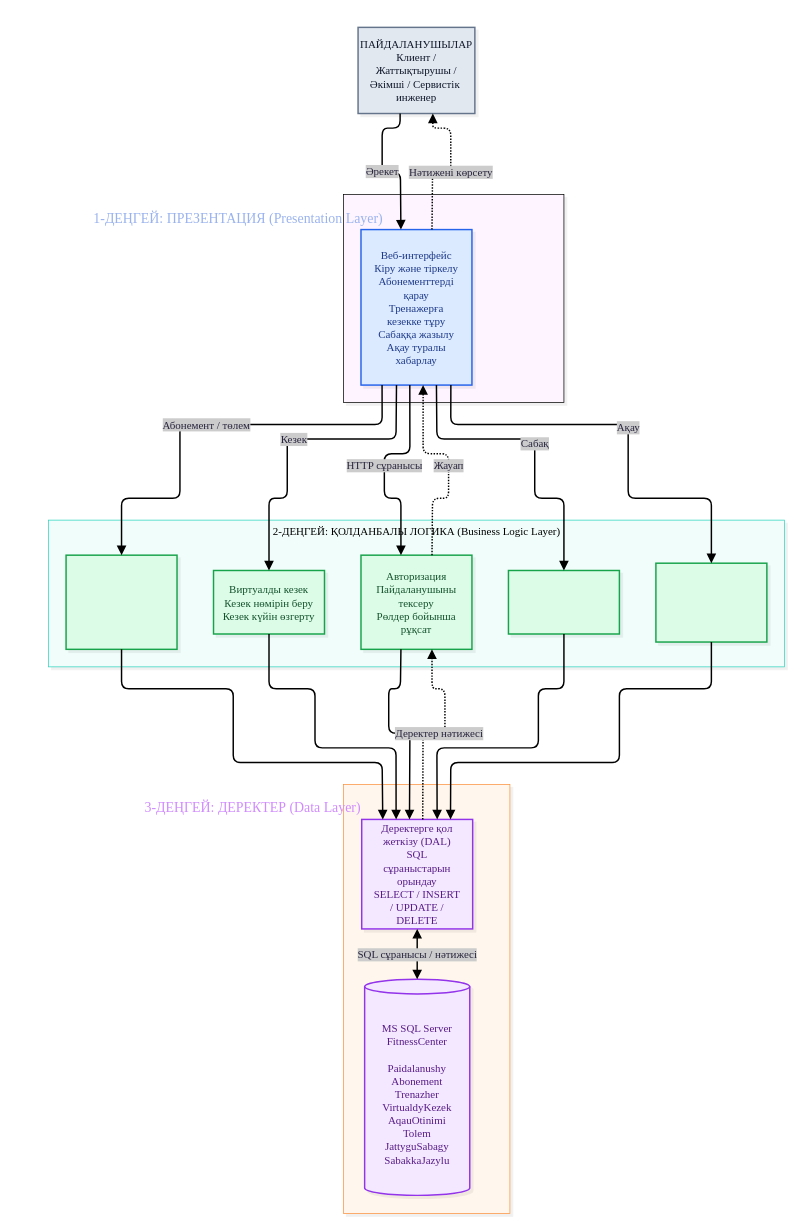
Some shapes in this 800 by 1229 pixel diagram are drawn without their labels. The centre of each missing label's shape, as x and y in pixels:
Абонемент және төлем Абонементті басқару Төлемдерді тіркеу: (122,603)
Ақау өтінімдері Өтінім қабылдау Жөндеу күйін бақылау: (712,603)
Жаттығу сабақтары Кестені басқару Сабаққа тіркеу: (565,603)
